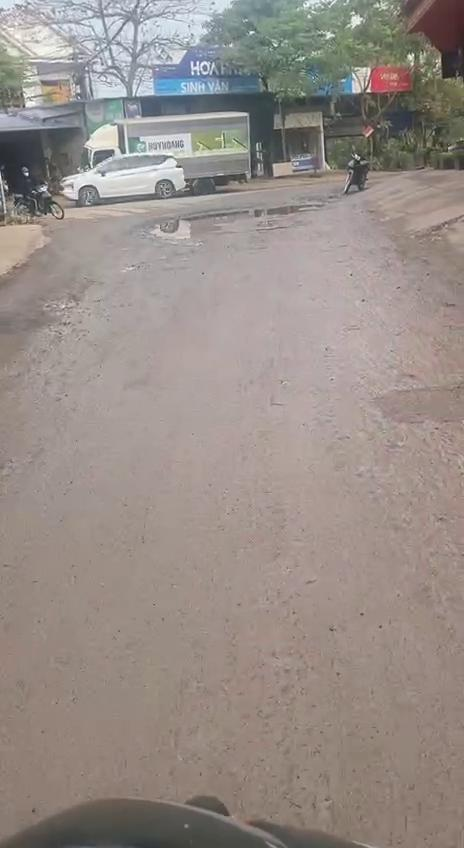pothole: (142, 198, 327, 247)
